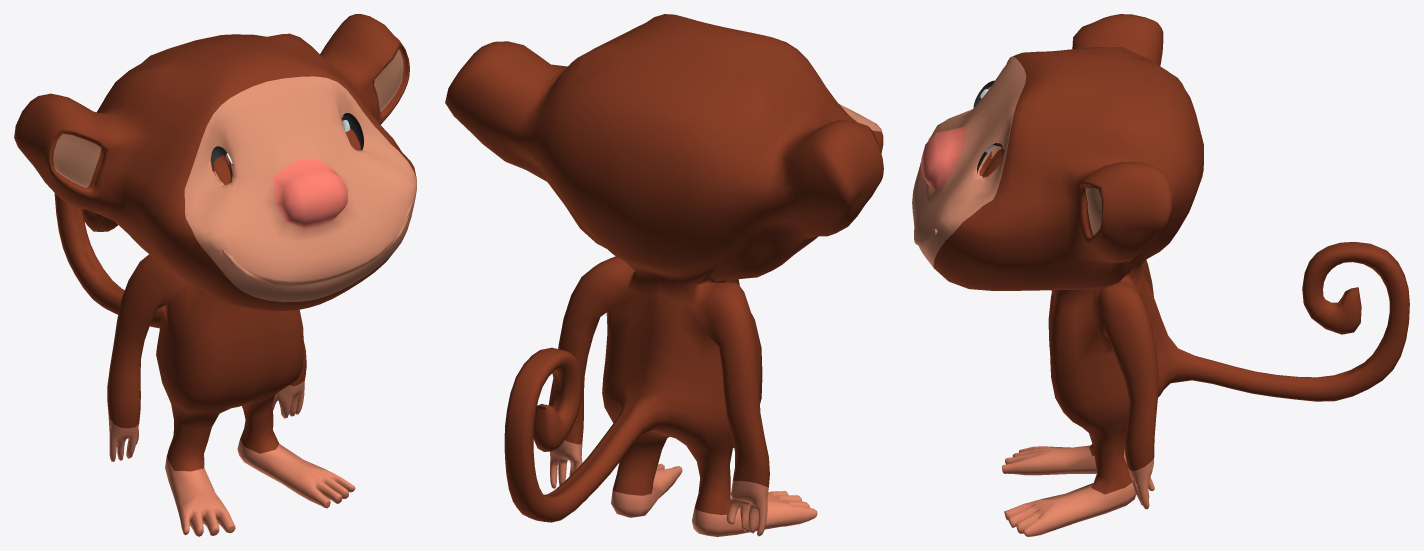
File: monito.fbx
3 renders of one model, left to right at view 1: azimuth 30°, elevation 25°; view 2: azimuth 150°, elevation 25°; view 3: azimuth 270°, elevation 25°, orthographic. The views are drawn at different scales.
Parts seen in each view (by area): view 1: Cube; view 2: Cube; view 3: Cube.
Boxes of the visible parts, bbox=[...] form: Cube: bbox=[14, 14, 416, 536]; Cube: bbox=[445, 14, 883, 536]; Cube: bbox=[912, 14, 1409, 536].
Bounding box in the file's own units: 145 × 167 × 174.
